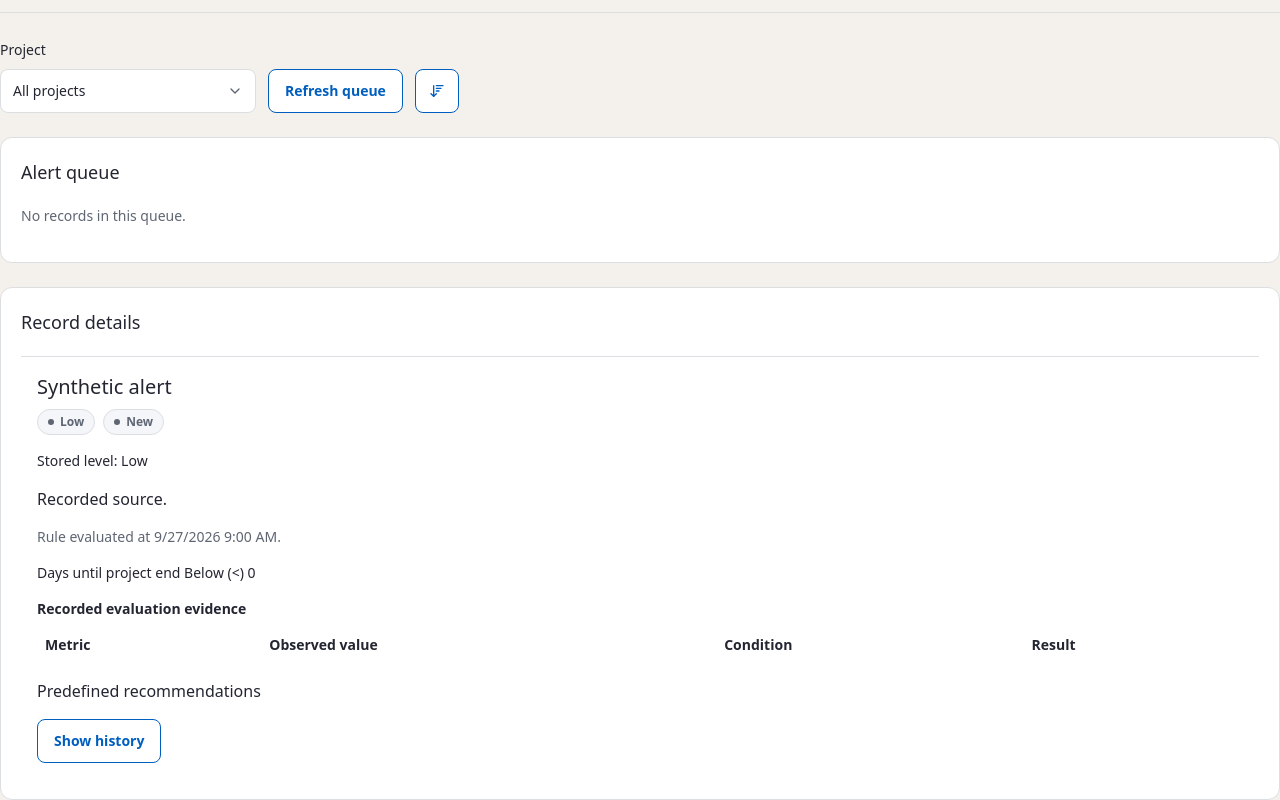
alert outcome controls › lists the alert history with its evidence when asked
(page scrolled)
Step 1. Click the button "Show history" → (99, 741), box left=37, top=719, right=161, bottom=763
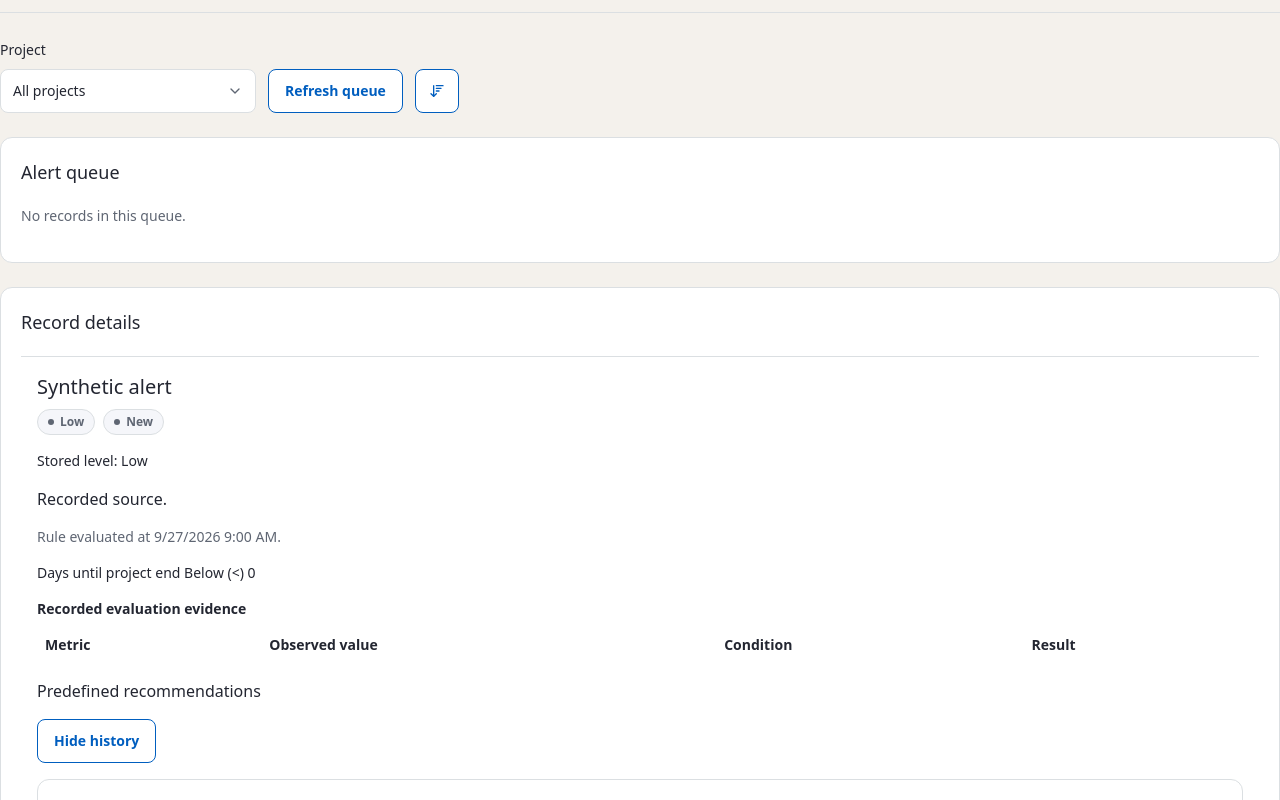
Check: the button "Hide history" is shown, box left=37, top=719, right=156, bottom=763
